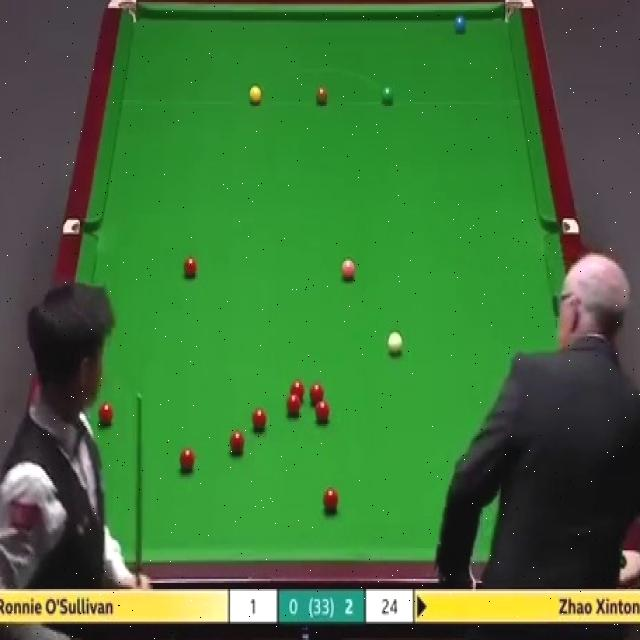blue-ball: (453, 12, 469, 38)
brown-ball: (315, 86, 329, 108)
green-ball: (380, 86, 394, 107)
pink-ball: (341, 256, 356, 283)
red-ball: (95, 398, 115, 429), (322, 488, 340, 516), (229, 431, 246, 459), (179, 447, 195, 475), (285, 394, 302, 418), (252, 409, 268, 434), (182, 254, 198, 278), (288, 380, 306, 401), (315, 399, 330, 423), (308, 384, 324, 404)
white-ball: (384, 330, 405, 358)
yellow-ball: (249, 85, 262, 106)
